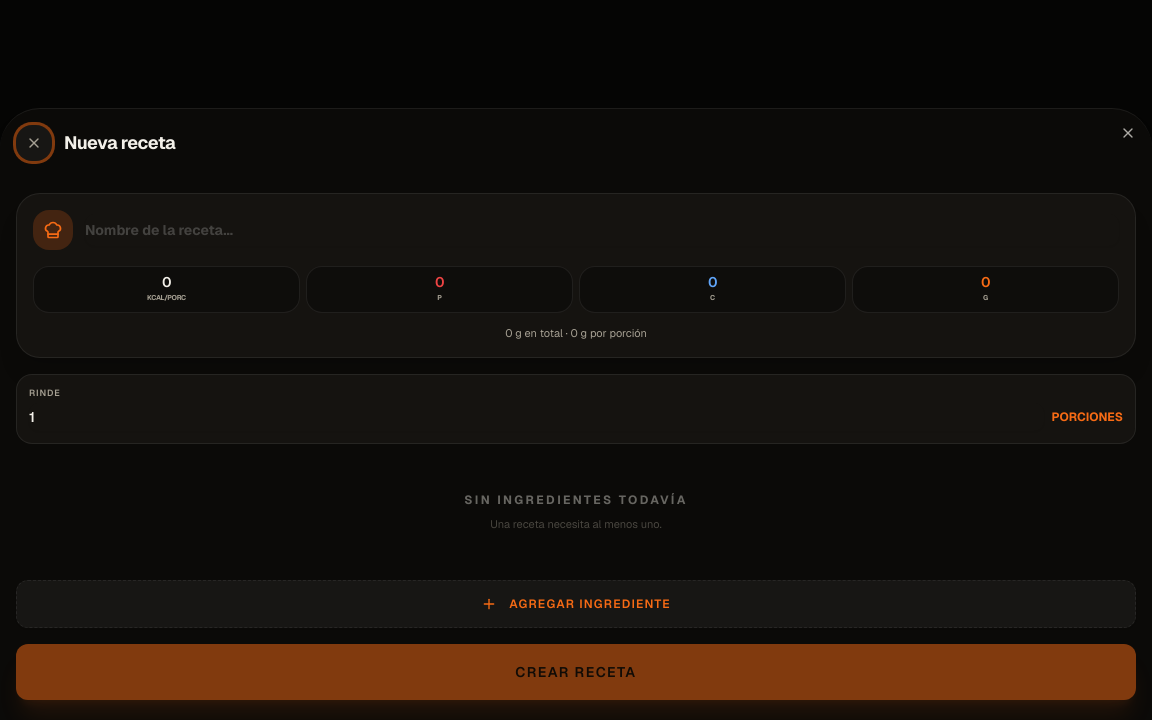
Test case: RecipeEditorSheet — validation before the round trip › blocks a yield below one
Click the button "Agregar Ingrediente" at (576,604), box [16,580,1136,628]
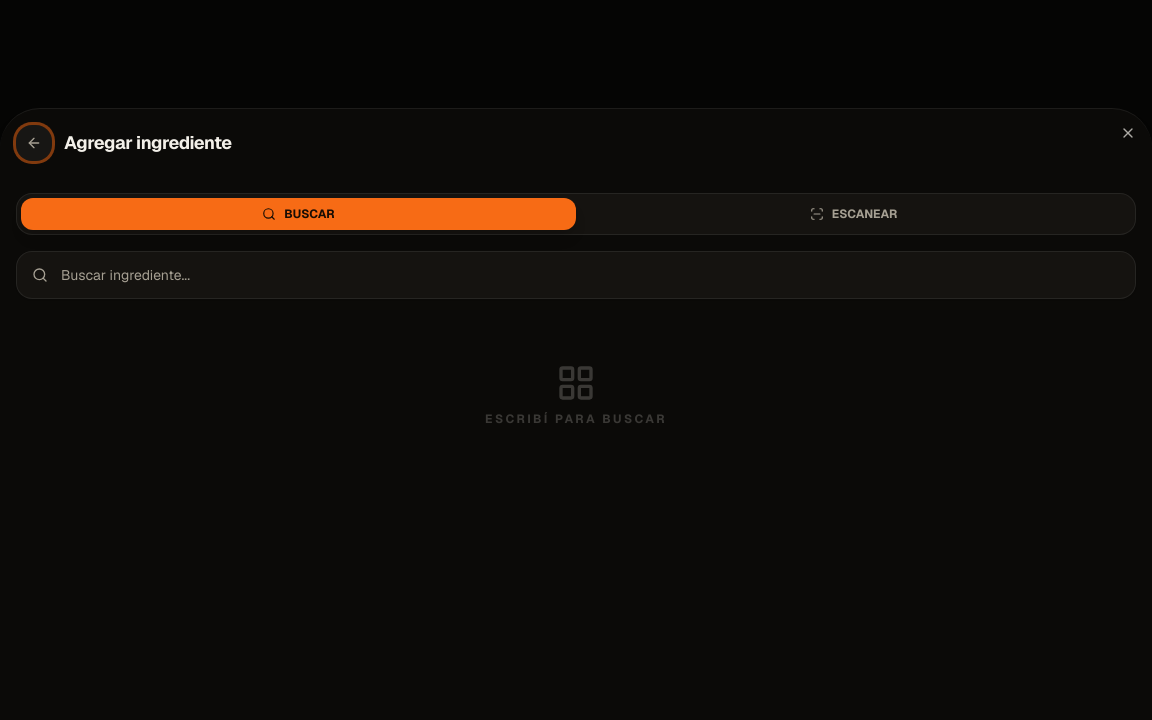
Type "len" into the field with placeholder "Buscar ingrediente..." at (576,275), box [16,251,1136,299]
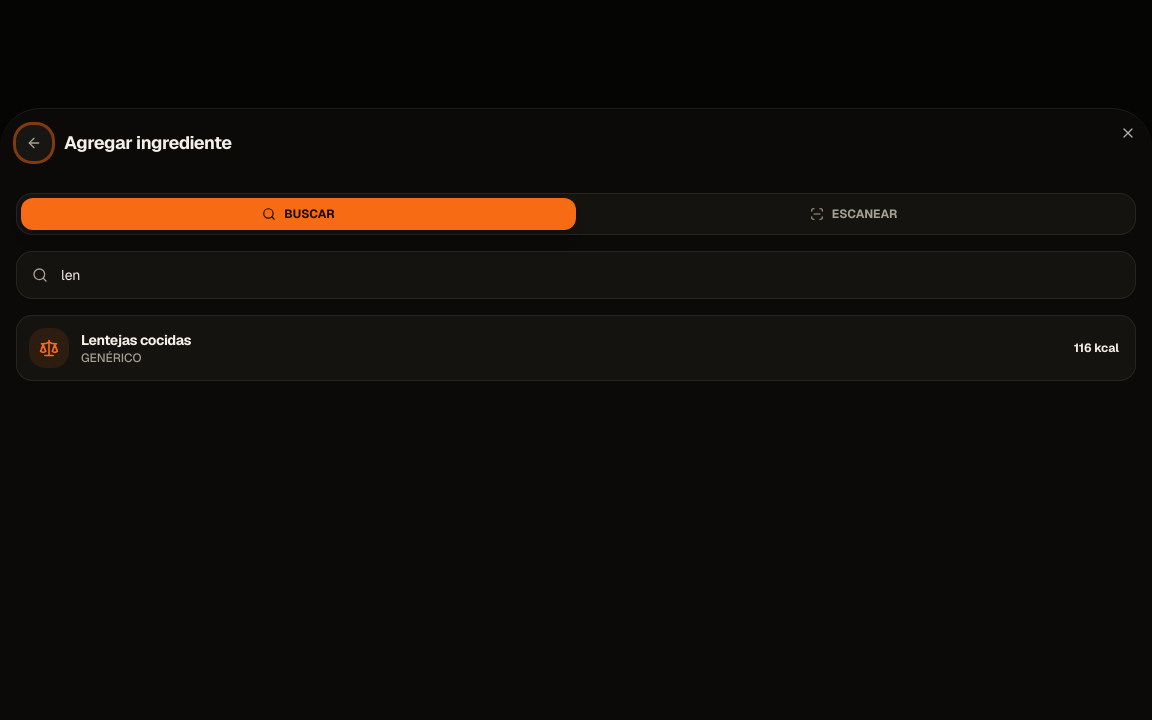
Click the heading "Lentejas cocidas" at (136,340), box [81,330,191,350]
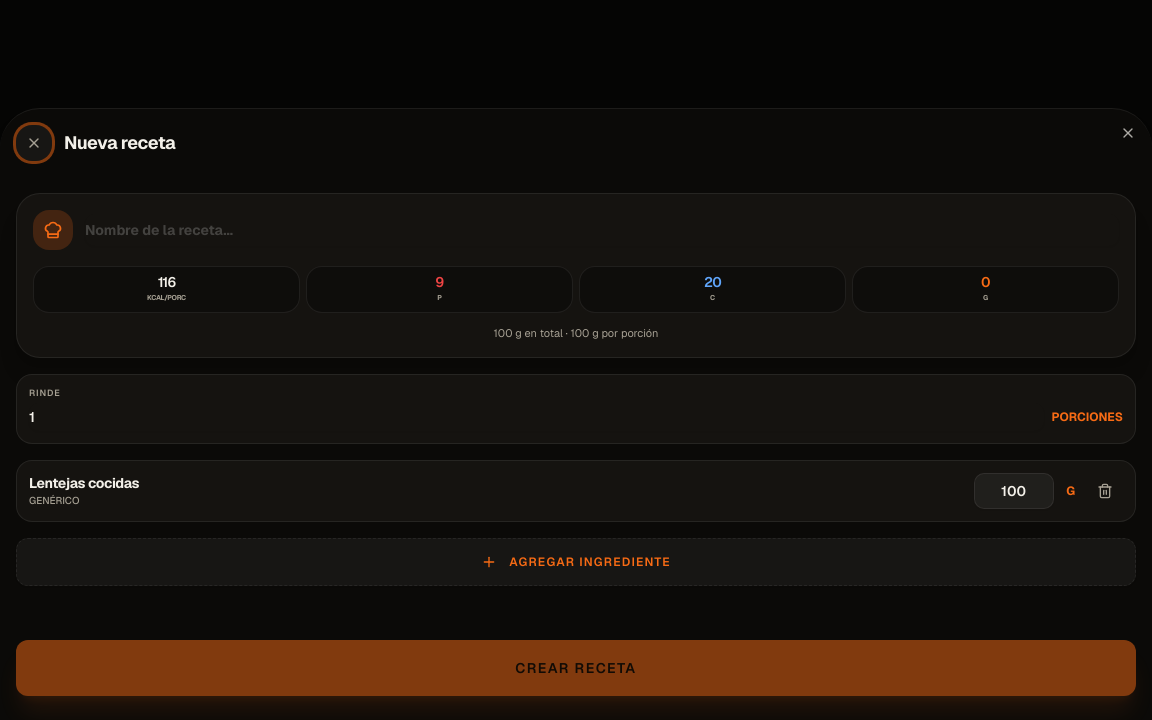
Type "Guiso" into the field labelled "Nombre de la receta" at (602,230), box [85,214,1119,246]
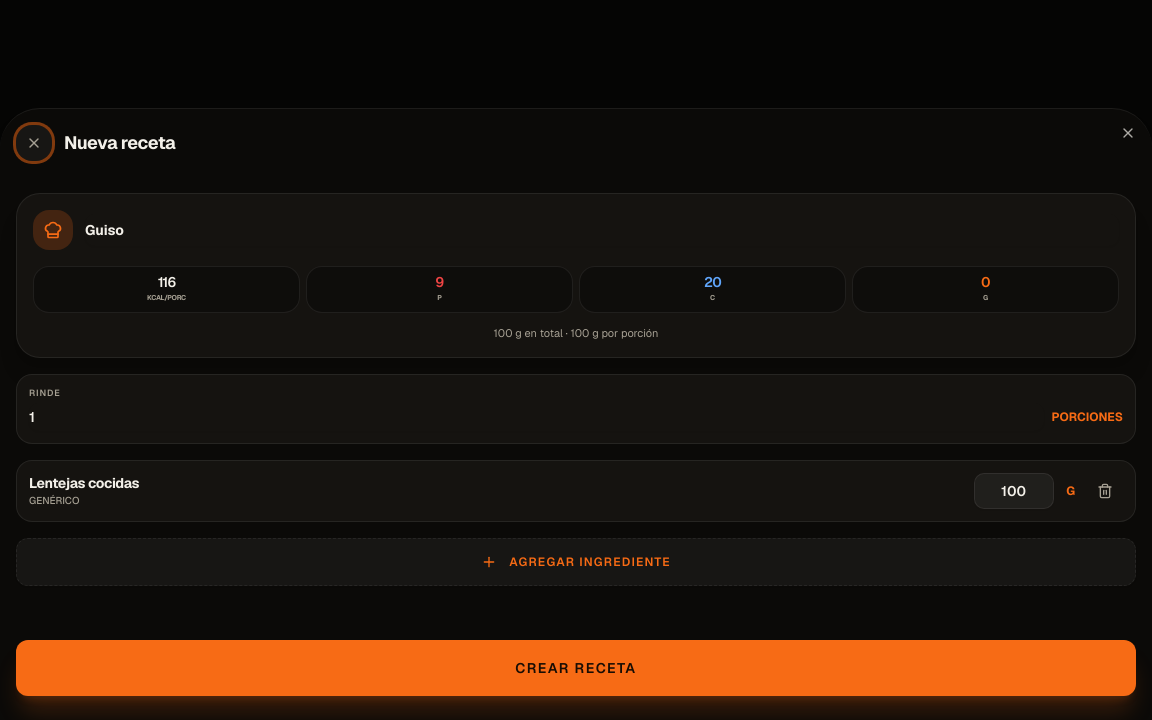
Replace the text in the number field named "Rinde" with "0" at (536,416), box [29,402,1044,430]
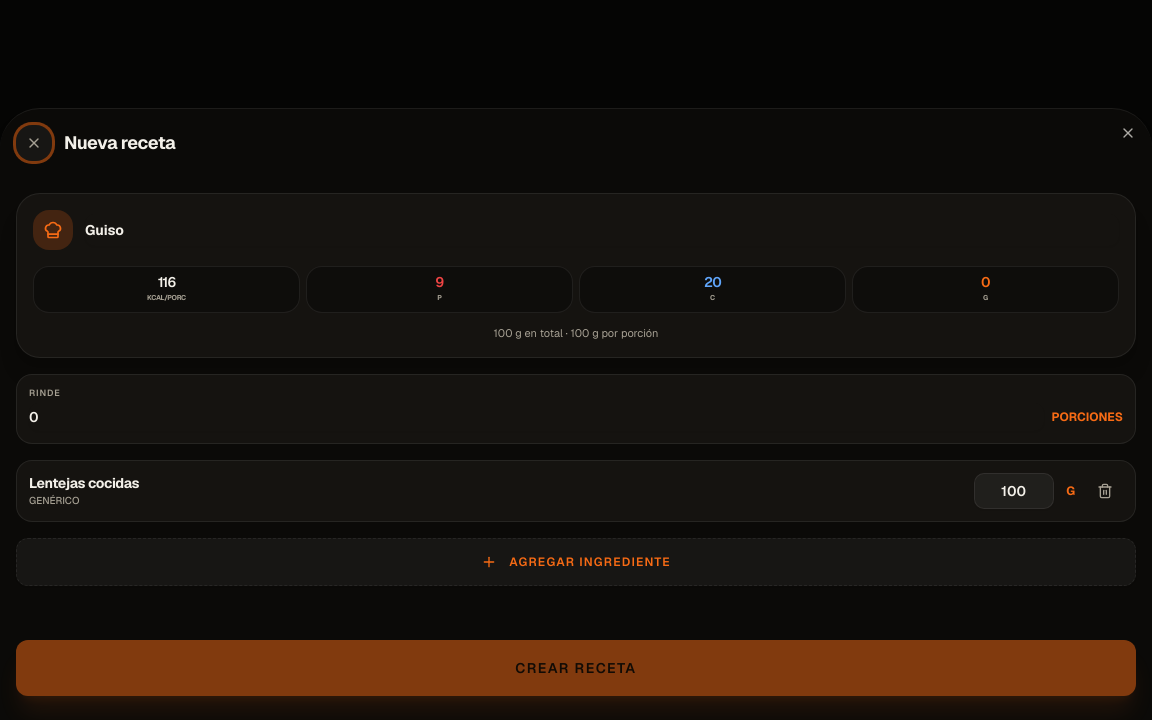
Check: the button "Crear Receta" is disabled, box [16,640,1136,696]
